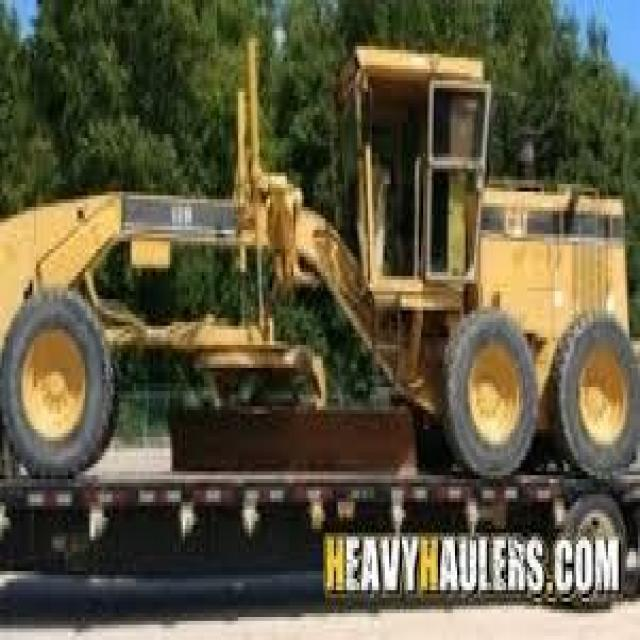Grader: (6, 34, 638, 510)
